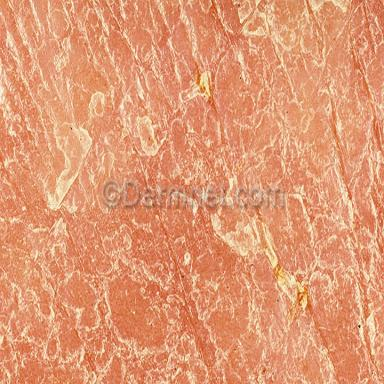Psoriasis: (0, 2, 383, 384)
